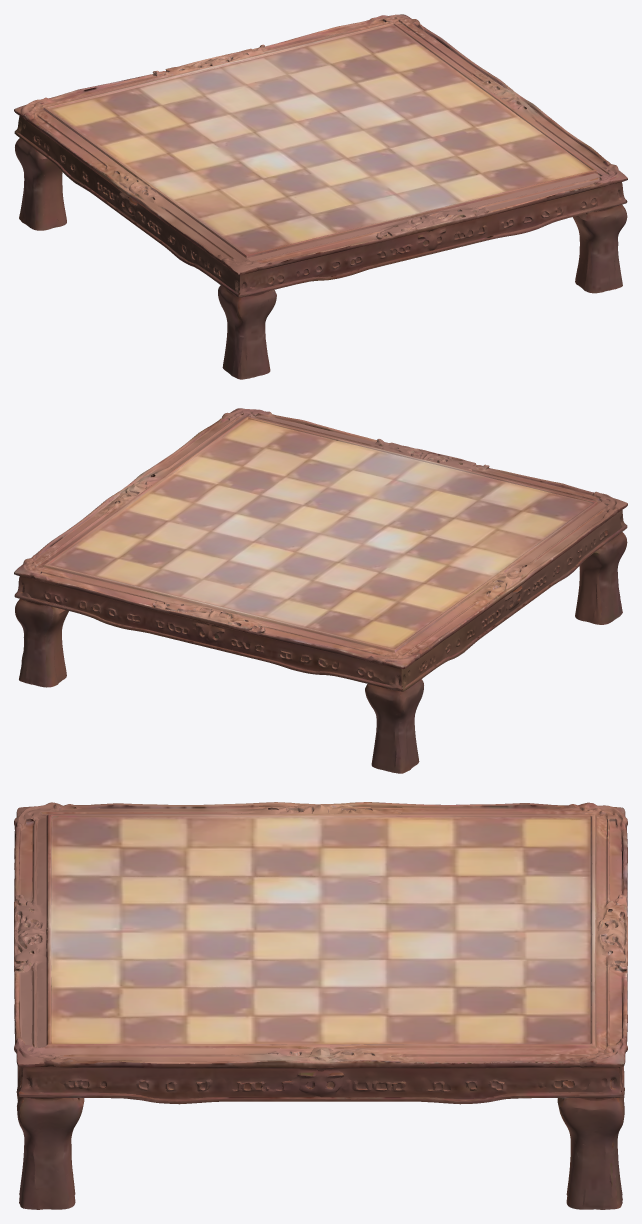
File: pink-board.glb
The picture shows the model from 3 angles, top to bottom: view 1: azimuth 30°, elevation 25°; view 2: azimuth 150°, elevation 25°; view 3: azimuth 270°, elevation 25°; orthographic projection. The views are drawn at different scales.
Parts seen in each view (by area): view 1: model; view 2: model; view 3: model.
Part boxes in pixels (x1,y1,x2,y2): model: (14, 14, 627, 379); model: (14, 408, 627, 773); model: (14, 802, 627, 1209).
Bounding box in the file's own units: 1.9 × 0.5368 × 1.9.
1 material, 1 textured.
